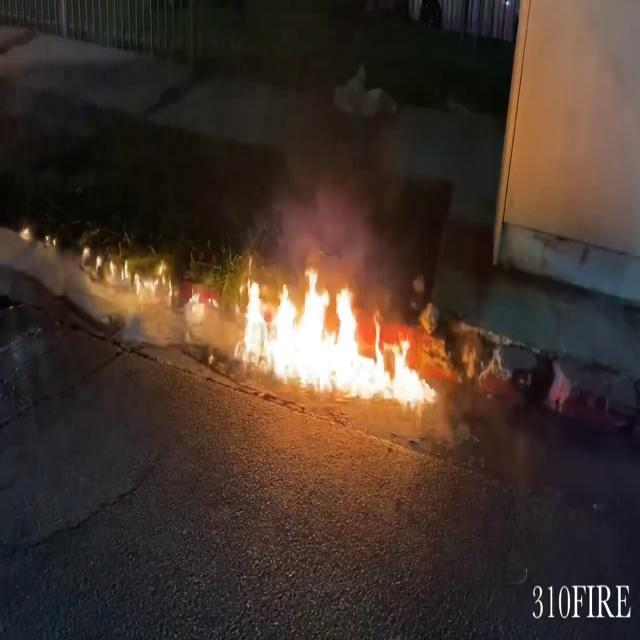Fire: (237, 258, 438, 404)
Smoke: (268, 128, 403, 302)
